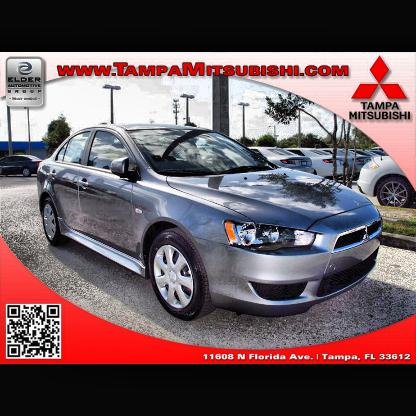Mitsubishi Lancer Sedan 2012: (38, 124, 389, 322)
